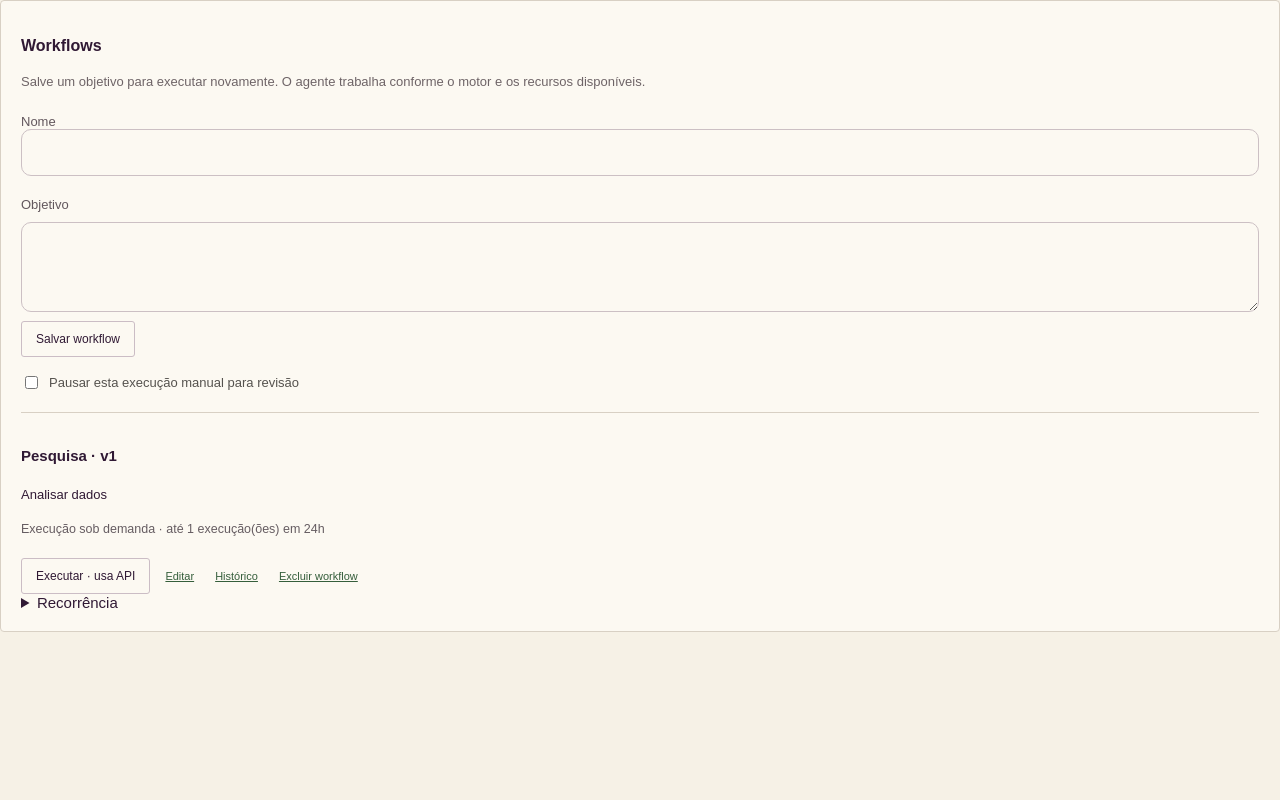
Test case: workflow permite pausar e aprovar o resultado
The width and height of the screenshot is (1280, 800).
Expected: the heading "Pesquisa · v1" is shown, [21, 447, 117, 464]
Click the checkbox labelled "Pausar esta execução manual para revisão" at (32, 383), box [25, 376, 38, 389]
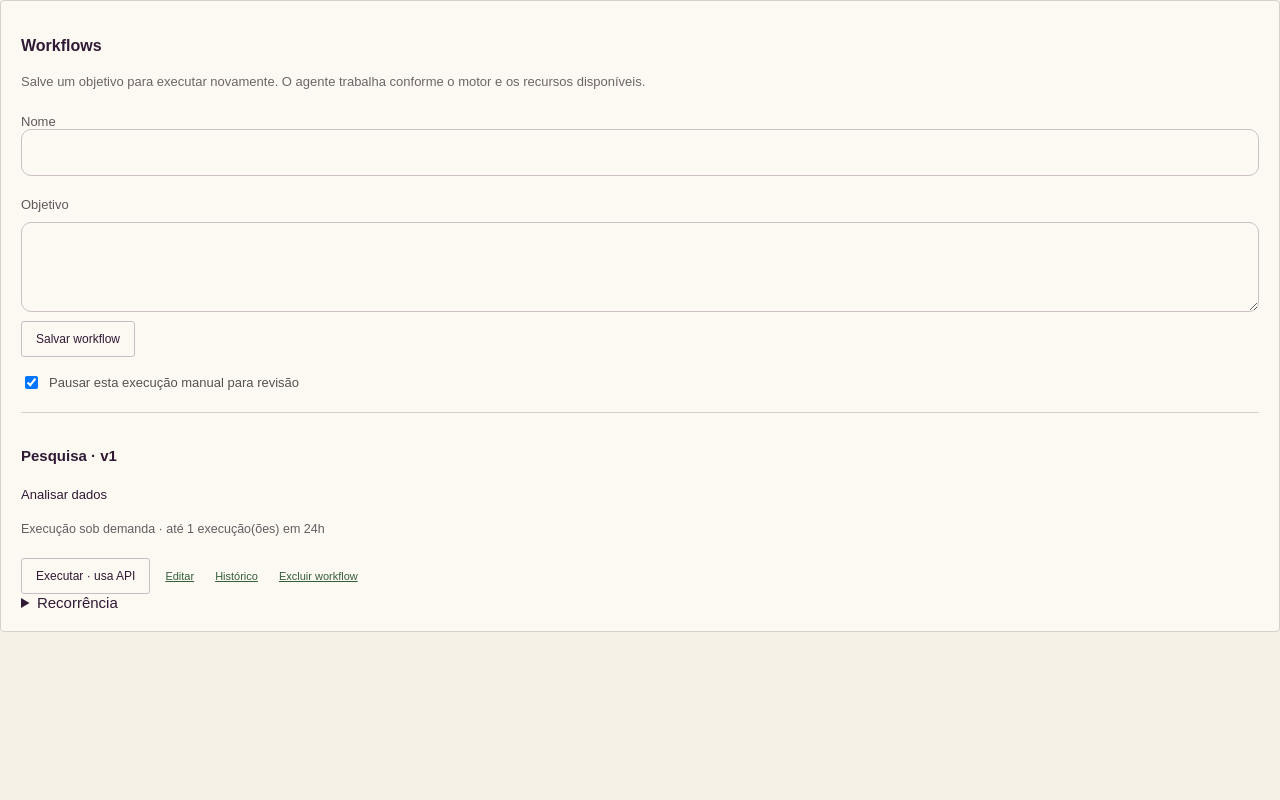
Click the button "Executar · usa API" at (86, 576), box [21, 558, 150, 594]
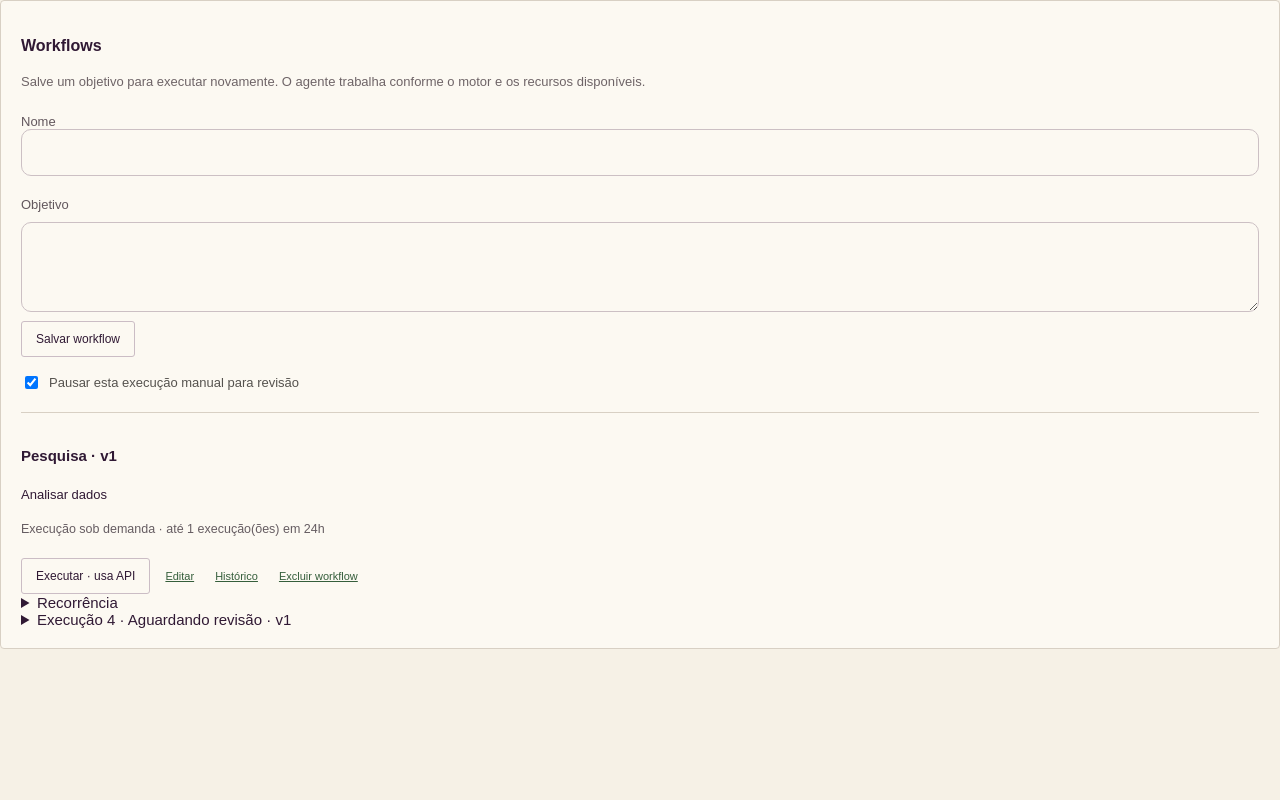
Result: the heading "Execução 4 · Aguardando revisão · v1" is shown
Click the heading "Execução 4 · Aguardando revisão · v1" at (164, 620), box [37, 611, 291, 628]
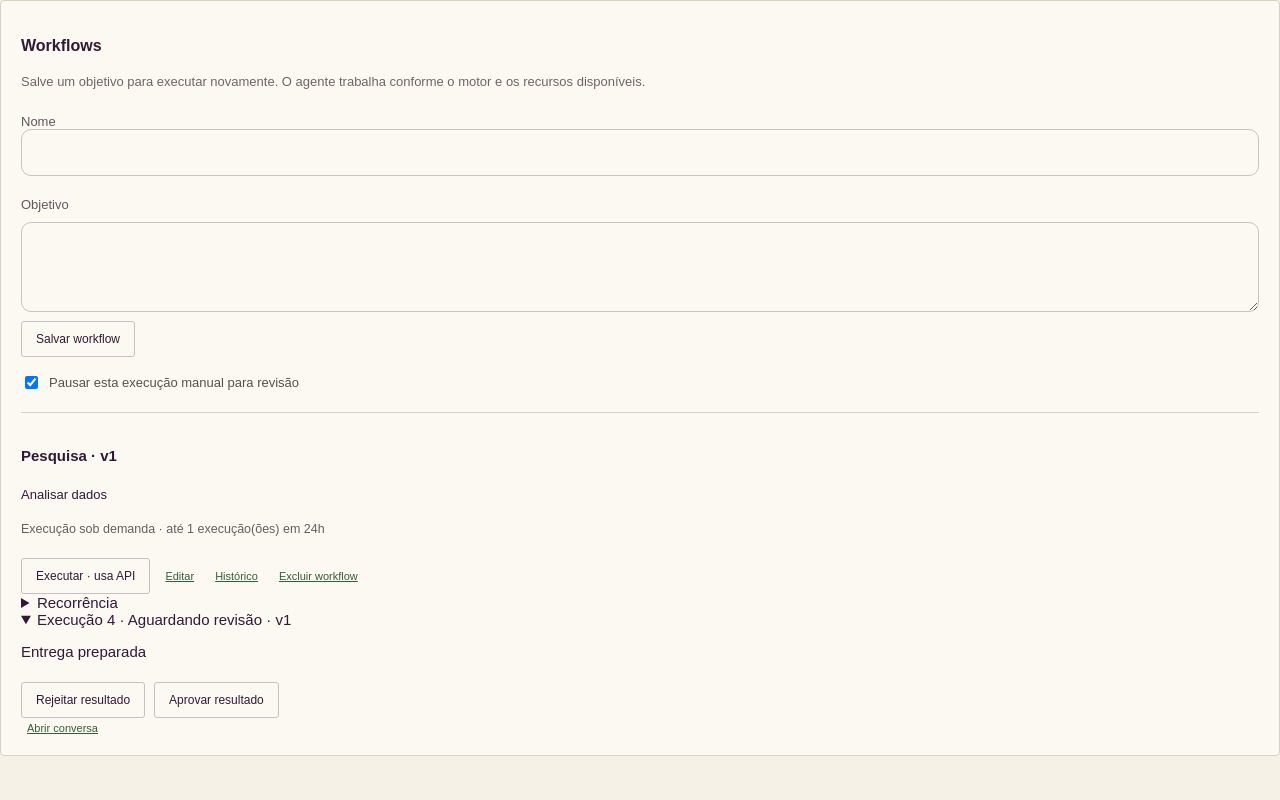
Click the button "Aprovar resultado" at (216, 700), box [154, 682, 279, 718]
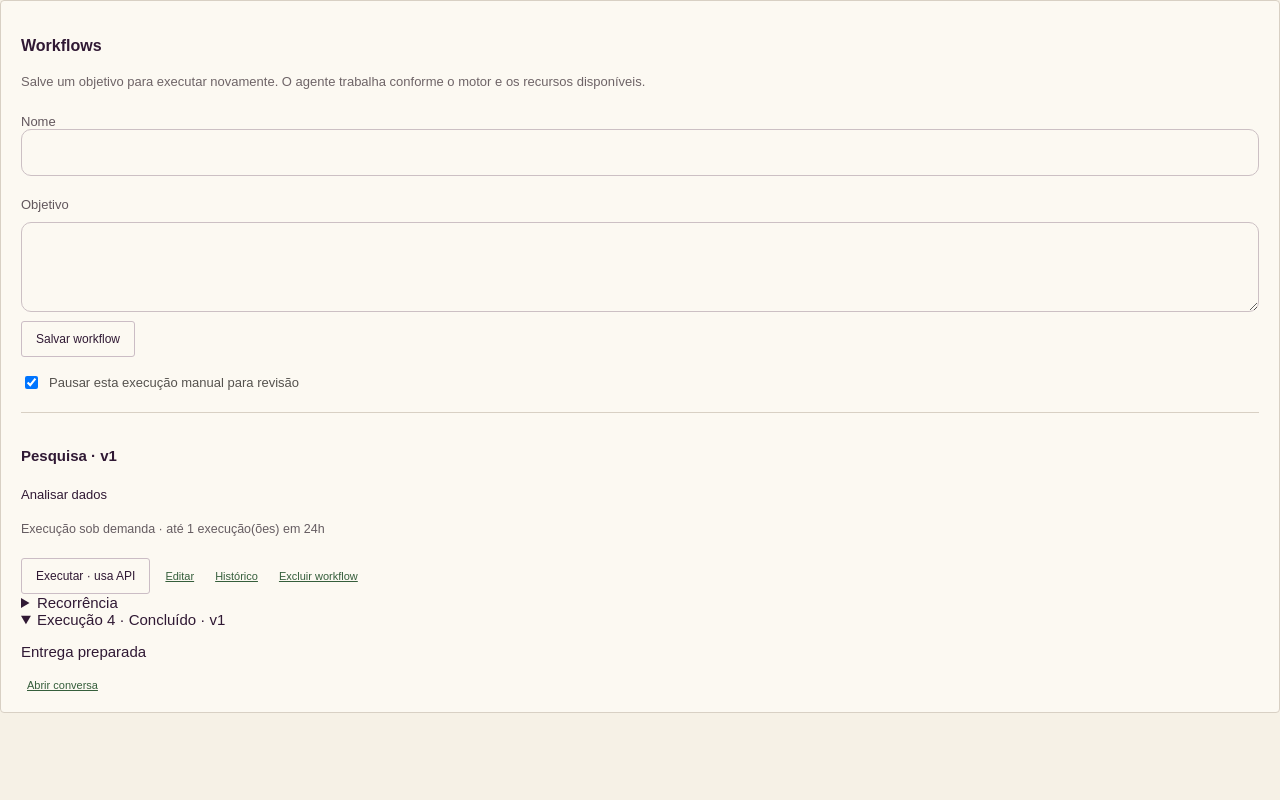
Result: the heading "Execução 4 · Concluído · v1" is shown at [37, 611, 225, 628]
